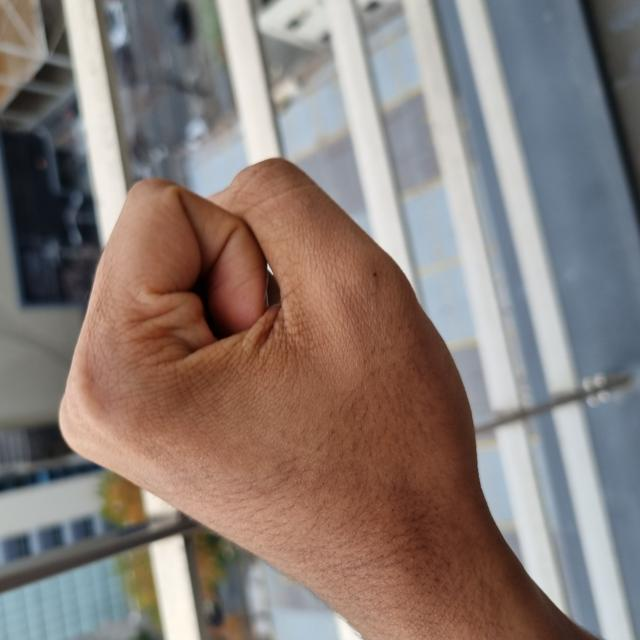Rock: (15, 59, 481, 480)
